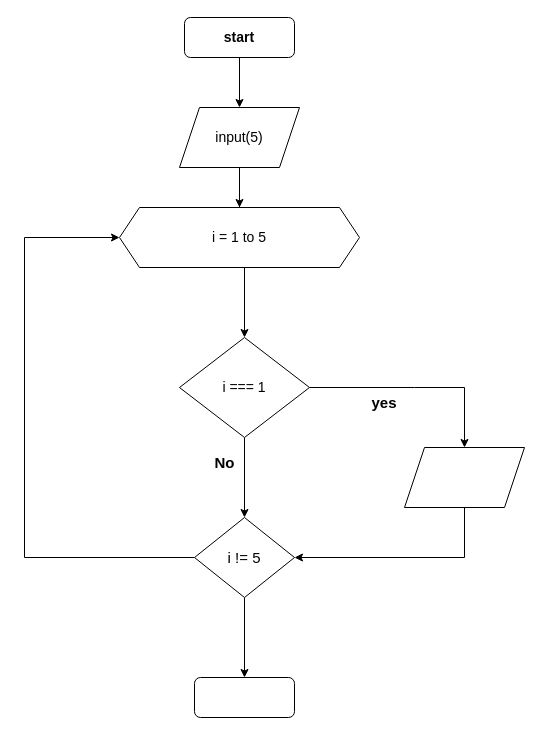
The diagram is 542 pixels wide and 735 high, and some of its shapes have lost their labels. Here are the shapes that lost their labels. From the top down, the box of each, then its label:
(404, 446, 524, 508): output(nyala)
(194, 676, 294, 718): end
